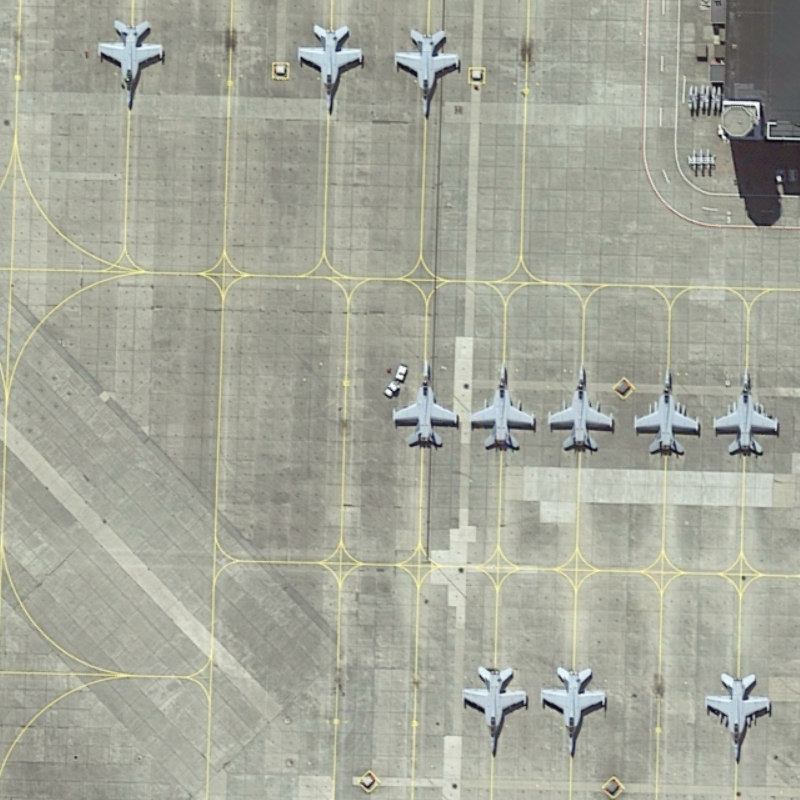A16: (84, 13, 176, 120), (387, 18, 471, 128), (694, 665, 782, 764), (455, 650, 536, 757), (704, 360, 786, 465), (624, 359, 704, 464), (388, 351, 465, 458), (291, 19, 372, 119), (464, 354, 540, 459), (537, 658, 613, 762), (542, 355, 619, 457)
